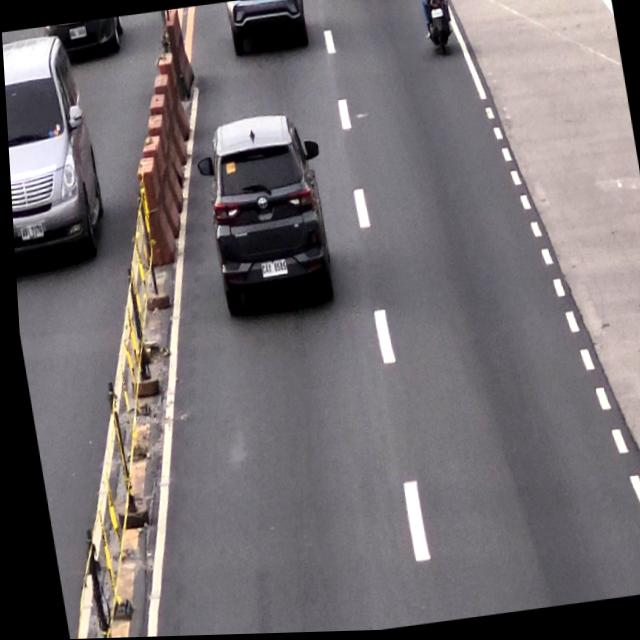Car: (193, 110, 338, 319), (226, 0, 310, 52)
License-Plate: (255, 257, 287, 283)
Motorcycle: (418, 0, 453, 57)
